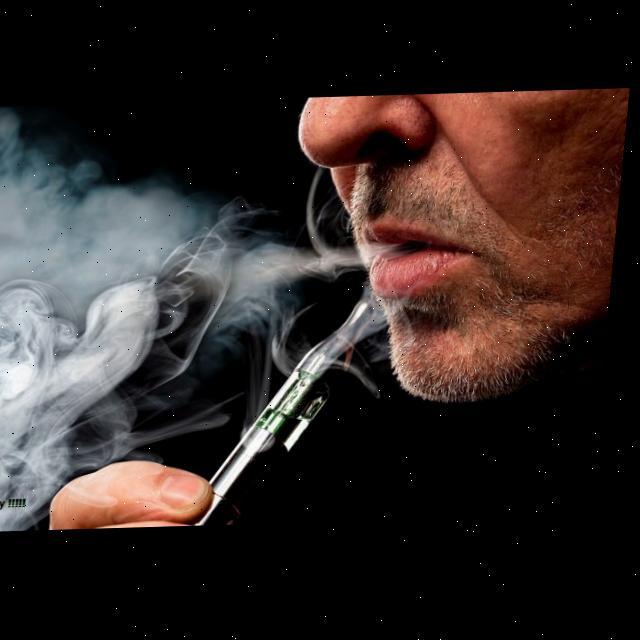vape: (200, 303, 398, 528)
